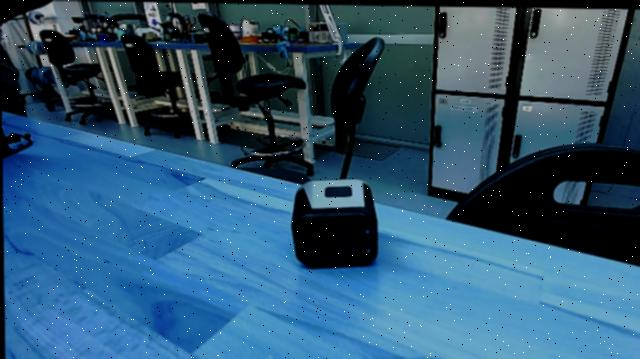adapter: (283, 167, 382, 268)
